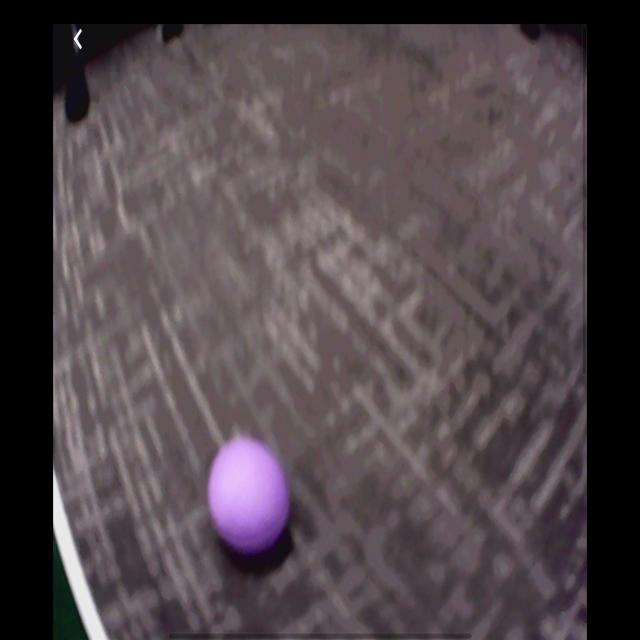ball: (207, 434, 291, 558)
